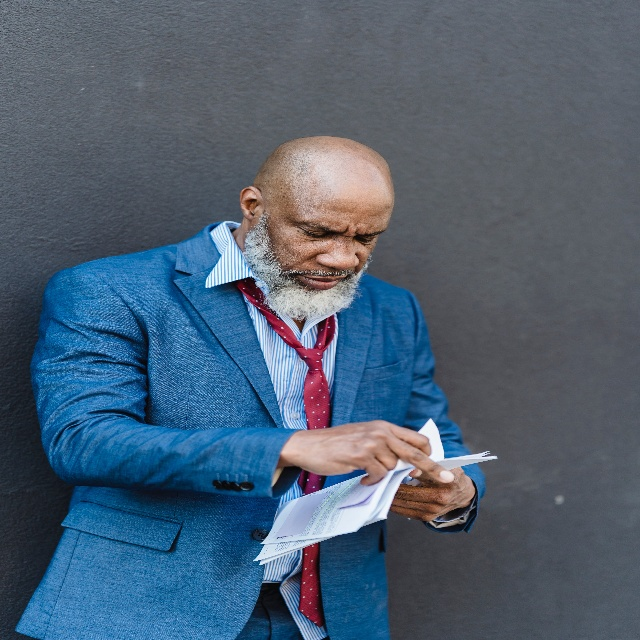Sin_guantes: (298, 422, 454, 488), (396, 469, 474, 525)
